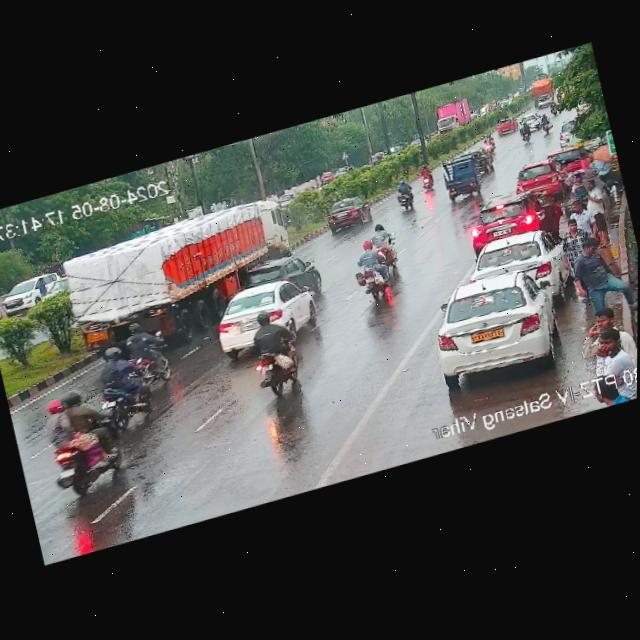car: (422, 261, 565, 388), (205, 266, 327, 355), (470, 221, 570, 302), (462, 186, 545, 249), (240, 250, 314, 300), (0, 268, 67, 321), (438, 152, 487, 203), (512, 155, 567, 200), (323, 194, 374, 234), (459, 142, 495, 179), (542, 143, 581, 177), (491, 116, 517, 138), (520, 111, 539, 128), (0, 288, 2, 322)
motorcycle: (30, 376, 140, 504), (87, 329, 171, 431), (241, 298, 314, 401), (113, 315, 175, 390), (345, 236, 402, 305), (363, 217, 409, 268), (389, 177, 418, 214), (412, 163, 436, 193), (518, 121, 536, 143), (535, 113, 552, 134), (483, 130, 496, 154)
person: (562, 227, 635, 321), (550, 213, 595, 270), (580, 176, 613, 247), (588, 325, 633, 375), (574, 299, 627, 337), (586, 149, 619, 197), (568, 195, 596, 239), (568, 171, 589, 198), (580, 151, 593, 169)
truck: (46, 188, 300, 355), (430, 96, 473, 134)
